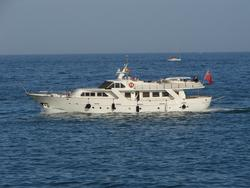yacht: (25, 53, 218, 116)
